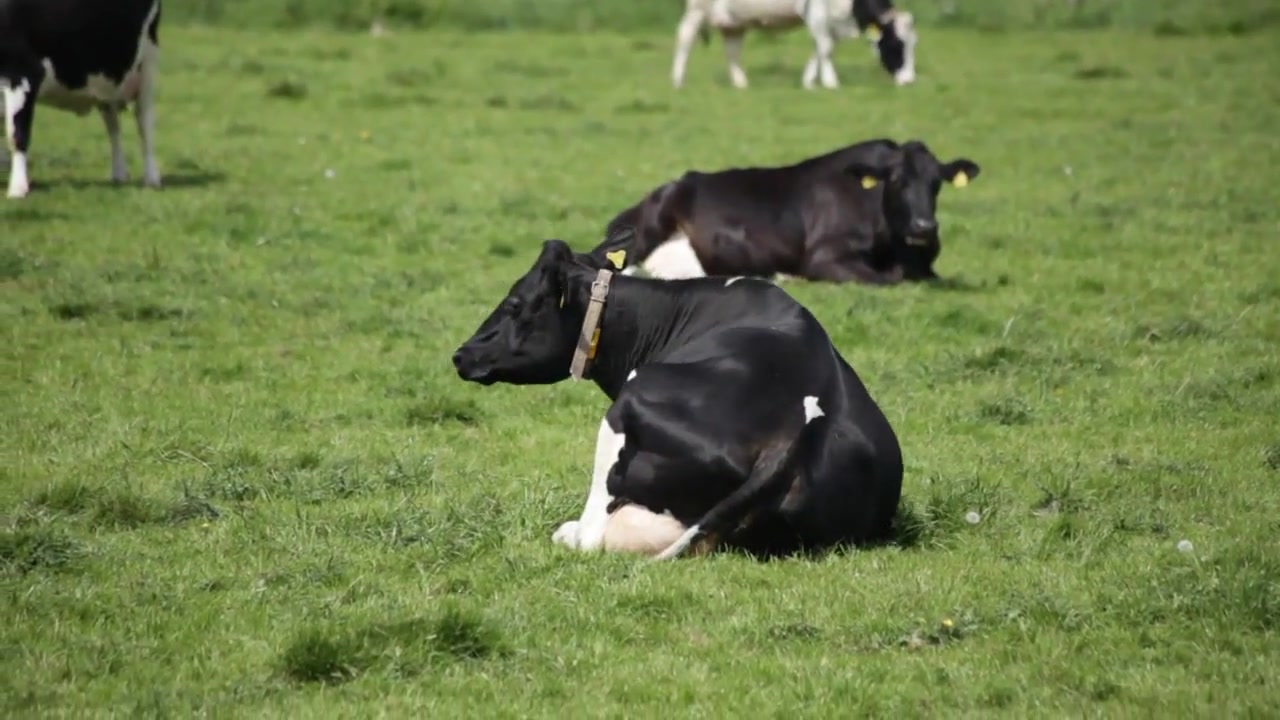cow: (449, 236, 905, 569)
